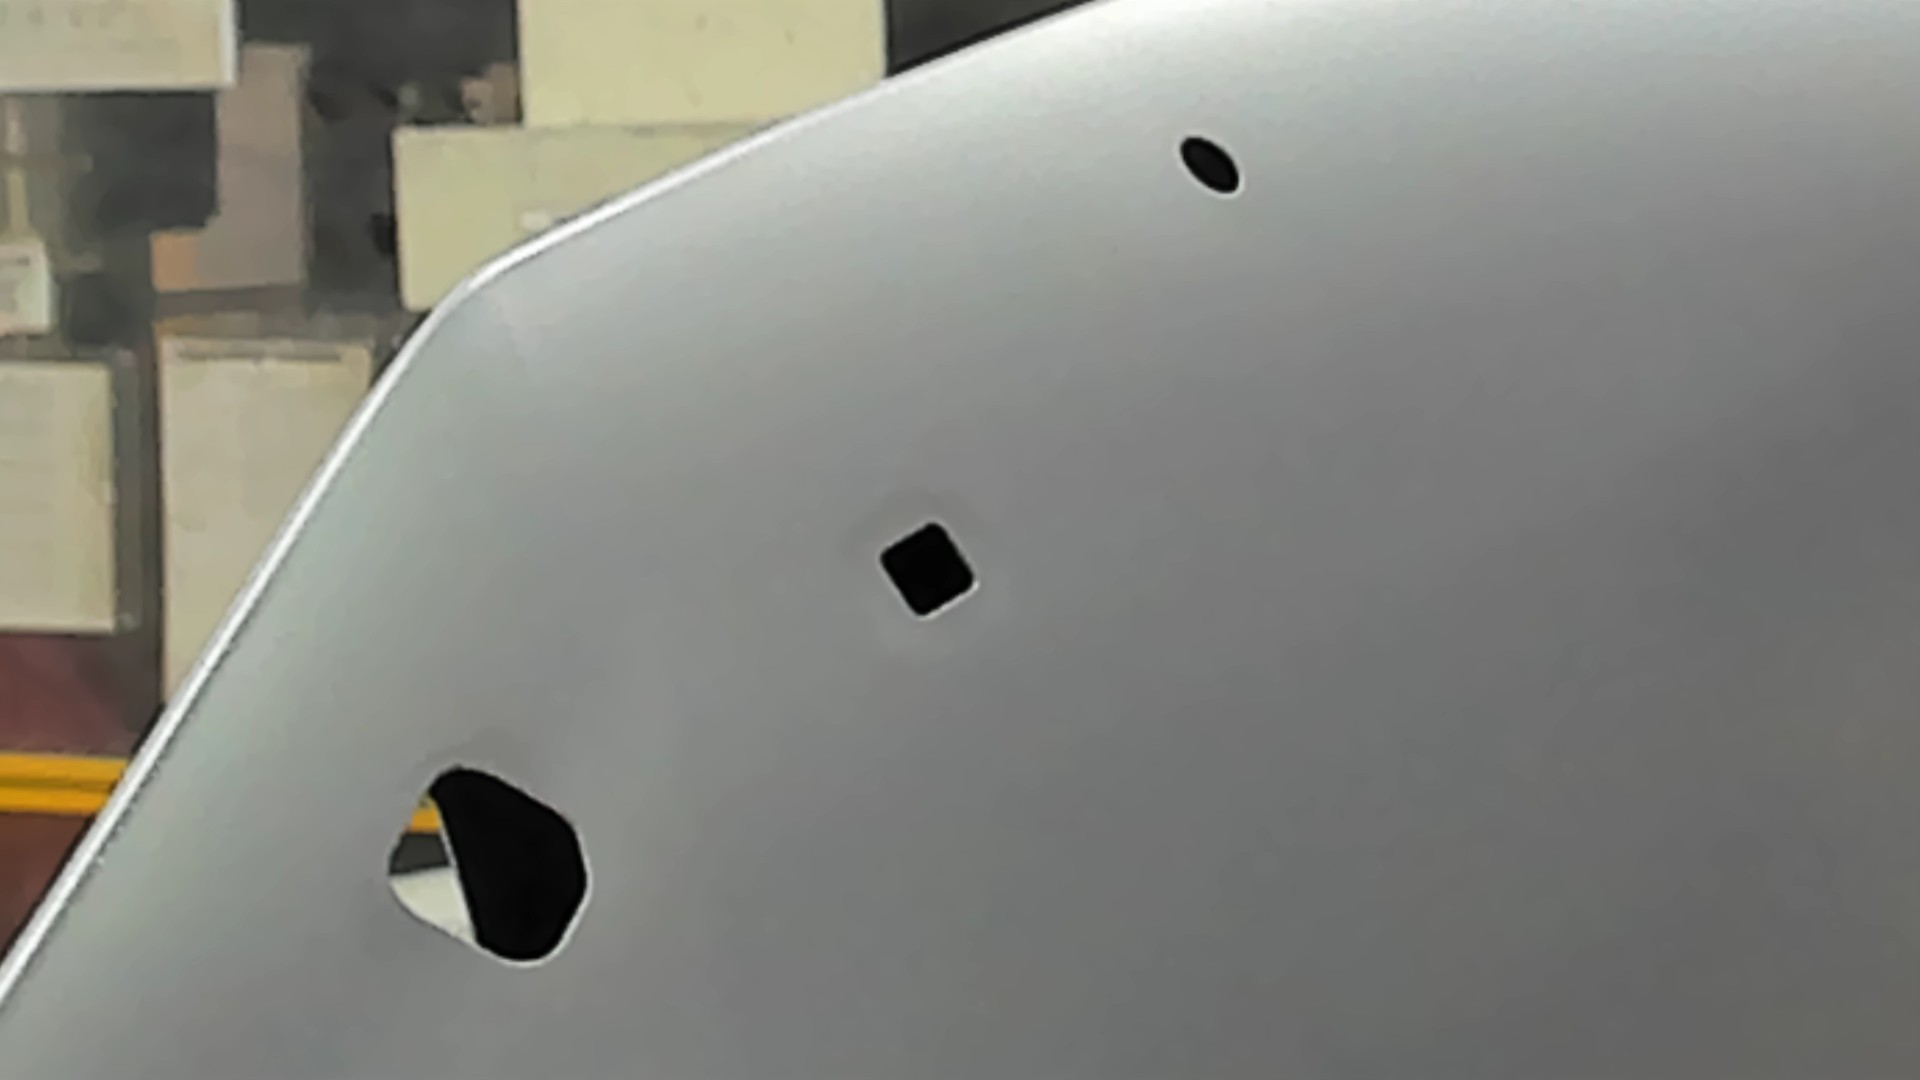chico: (1174, 129, 1246, 204)
grande: (378, 760, 600, 976)
mediano: (872, 514, 984, 629)
